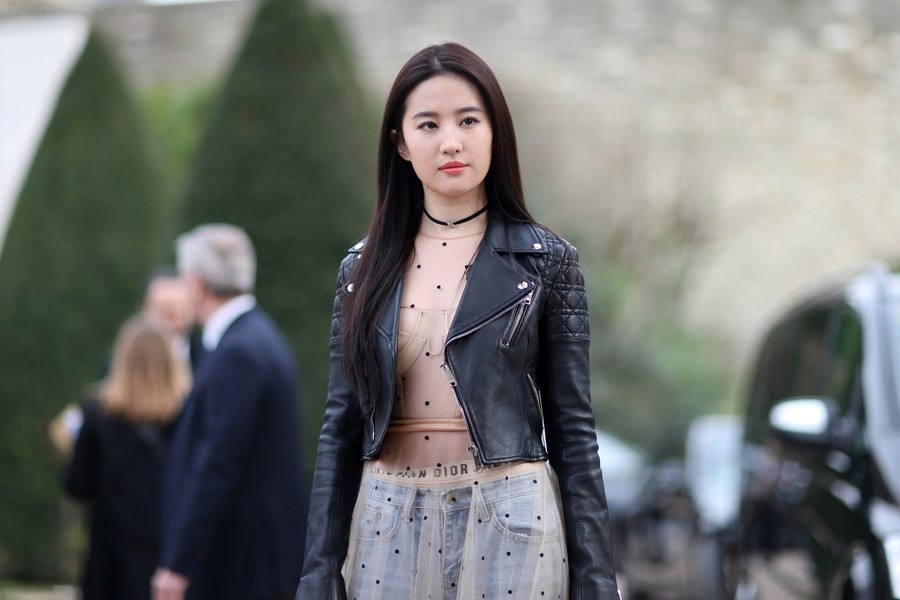face_no_mask: (385, 43, 502, 195)
